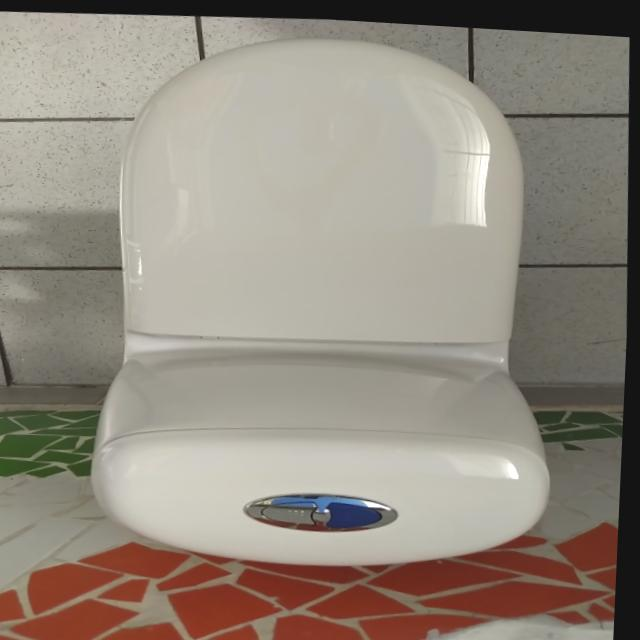toilet: (75, 15, 573, 580)
